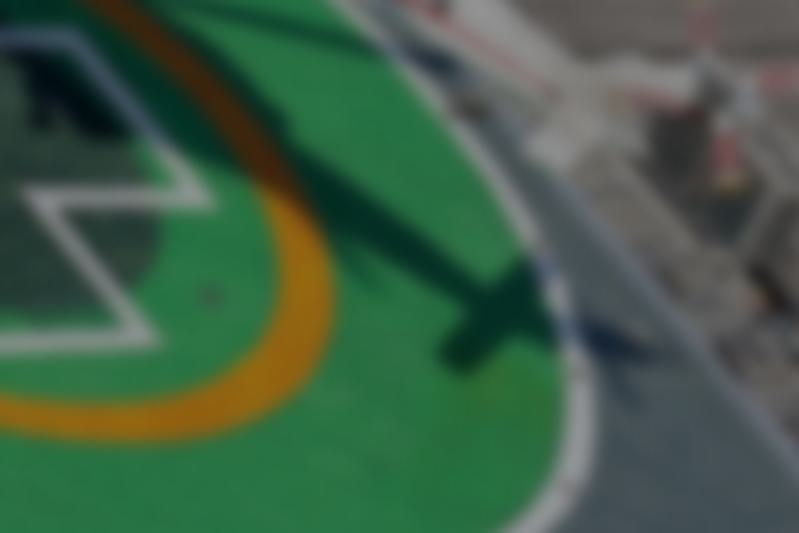Apron: (1, 1, 334, 445)
